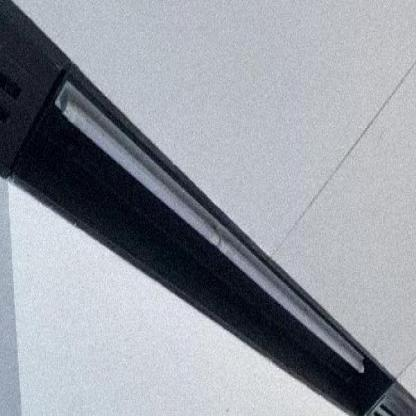light_off: (49, 61, 374, 382)
